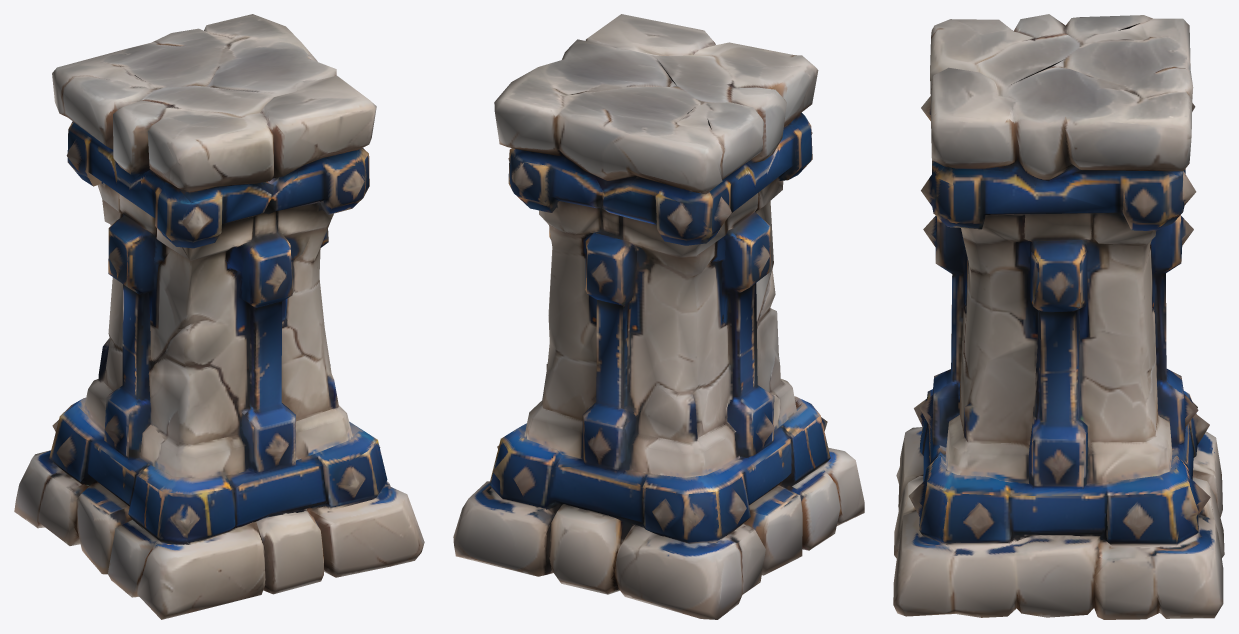
File: ruins-reinforced-pillar_LOD0.glb
3 views of the same model, side by side, from view 1: azimuth 30°, elevation 25°; view 2: azimuth 150°, elevation 25°; view 3: azimuth 270°, elevation 25° (orthographic). The views are drawn at different scales.
Visible parts, largest first — view 1: ruins-reinforced-pillar_LOD0; view 2: ruins-reinforced-pillar_LOD0; view 3: ruins-reinforced-pillar_LOD0.
Boxes of the visible parts, left/top/right/bottom form: ruins-reinforced-pillar_LOD0: left=14, top=14, right=424, bottom=619; ruins-reinforced-pillar_LOD0: left=453, top=14, right=864, bottom=619; ruins-reinforced-pillar_LOD0: left=893, top=14, right=1224, bottom=619.
Bounding box in the file's own units: 1.24 × 2 × 1.24.
Materials: 1 (1 with a texture image).
